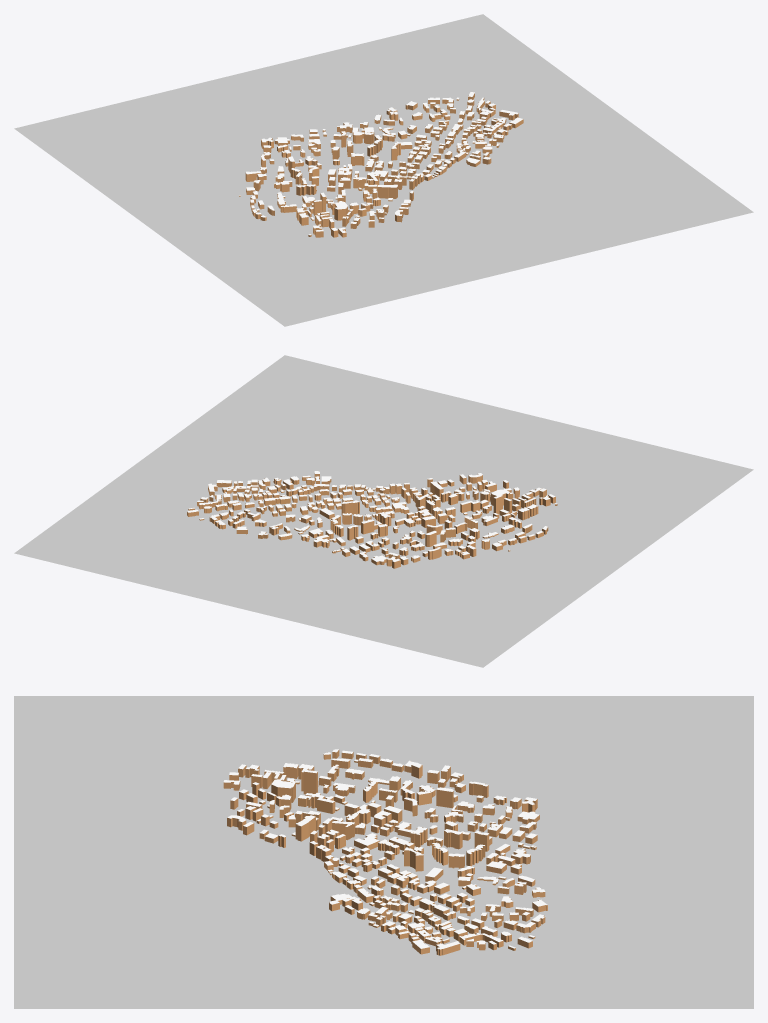
The model's file is cityMap.glb.
The picture shows the model from 3 angles, top to bottom: view 1: azimuth 30°, elevation 25°; view 2: azimuth 150°, elevation 25°; view 3: azimuth 270°, elevation 25°; orthographic projection. The views are drawn at different scales.
Parts seen in each view (by area): view 1: Plane, map.osm_buildings; view 2: Plane, map.osm_buildings; view 3: Plane, map.osm_buildings.
Boxes of the visible parts, left/top/right/bottom form: Plane: left=14, top=14, right=753, bottom=326; map.osm_buildings: left=239, top=92, right=523, bottom=237; Plane: left=14, top=355, right=753, bottom=667; map.osm_buildings: left=187, top=471, right=557, bottom=568; Plane: left=14, top=696, right=753, bottom=1008; map.osm_buildings: left=223, top=749, right=547, bottom=955.
Bounding box in the file's own units: 2000 × 67.44 × 2000.
